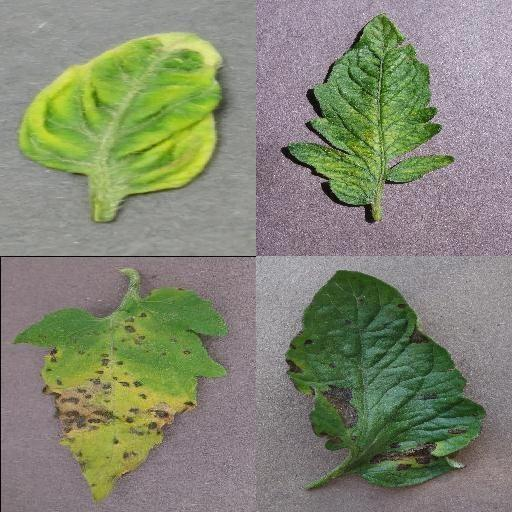Early Blight: (287, 269, 487, 491)
Mosaic Virus: (288, 13, 456, 207)
Septoria: (10, 286, 231, 504)
Yellow Leaf Curl Virus: (20, 30, 222, 198)
